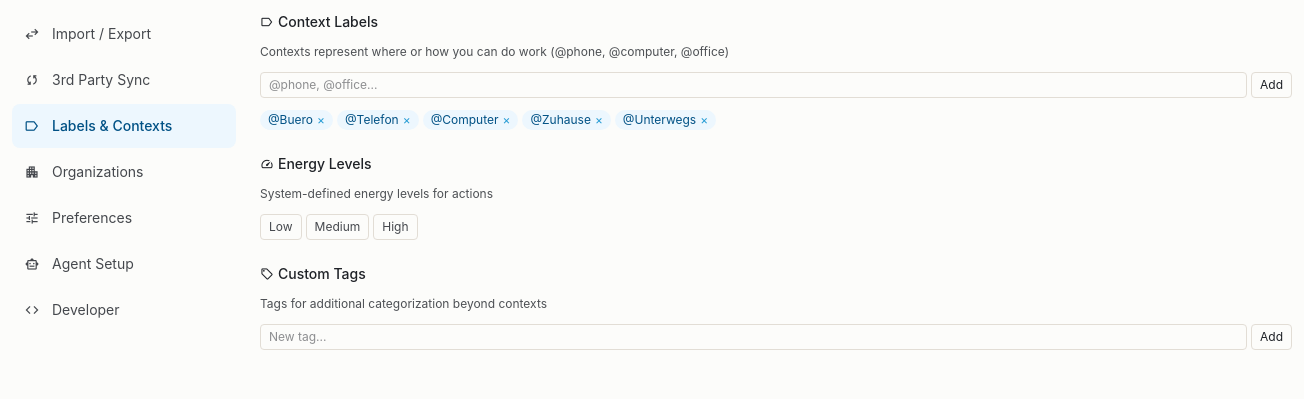
SettingsScreen › can add and remove tags in the Labels tab
In the field with placeholder "New tag...": (754, 337) [260, 324, 1247, 350], type "urgent"
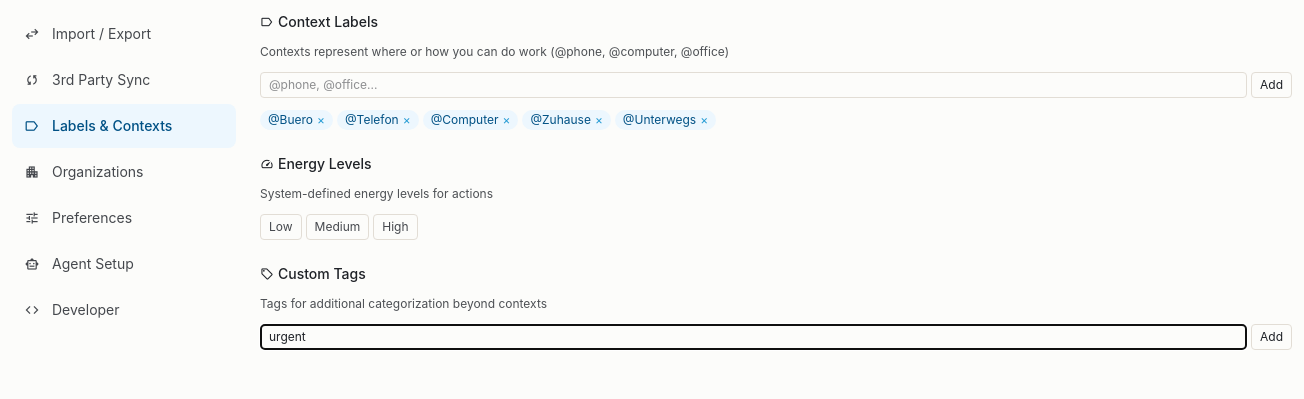
Click the 2nd button "Add": (1272, 337) [1251, 324, 1292, 350]
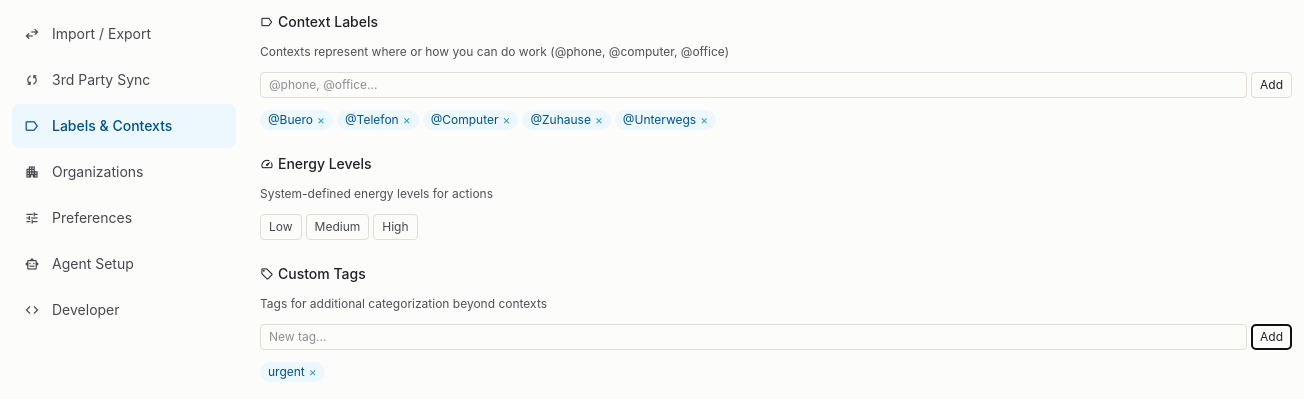
Result: the text "urgent" is shown at [268, 364, 305, 379]
Click the button named "Remove urgent": (313, 372) [309, 364, 317, 380]
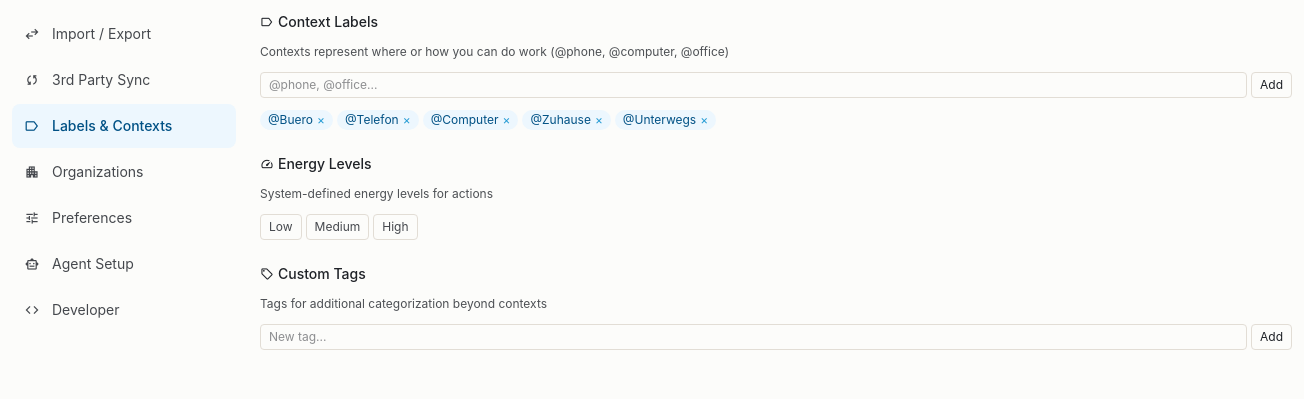
Result: the text "urgent" is gone
